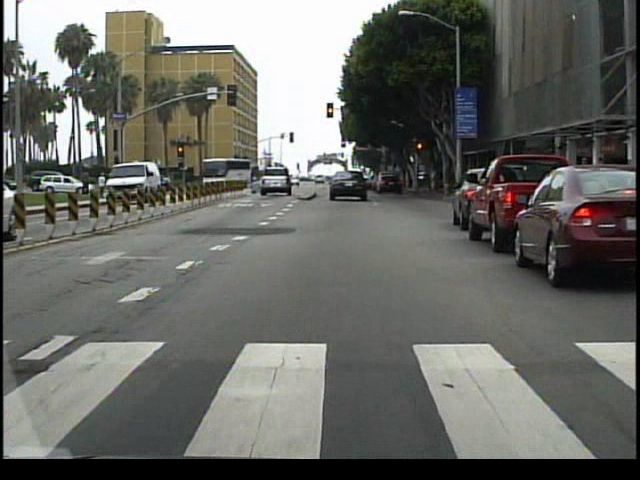person: (100, 170, 113, 207), (81, 168, 94, 192), (100, 171, 110, 197)
